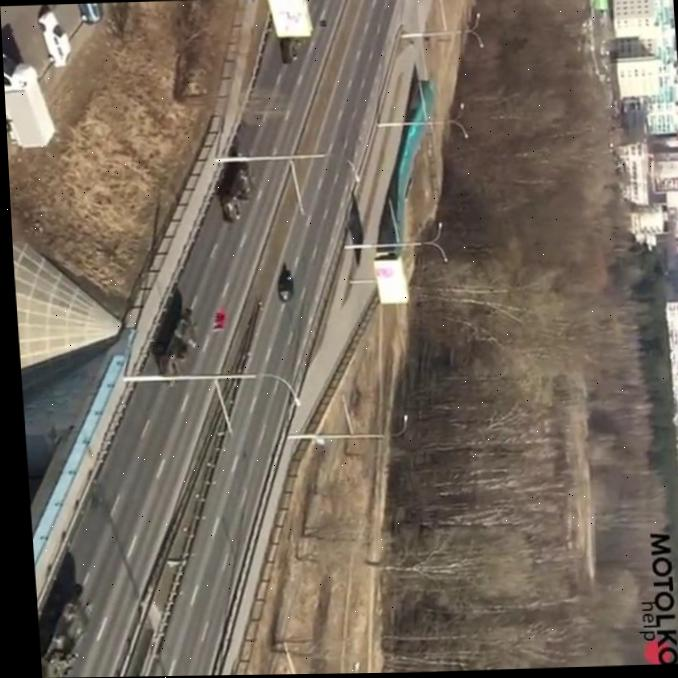car: (34, 11, 70, 69), (272, 265, 298, 306)
tank: (34, 582, 96, 678), (149, 307, 200, 388), (213, 158, 258, 224), (272, 26, 305, 76)
truck: (2, 47, 56, 149)
